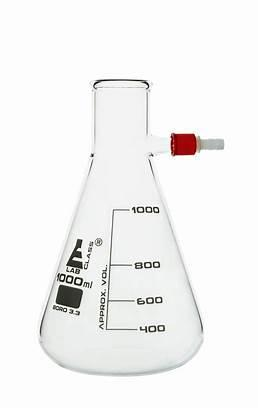Titrarion: (39, 47, 212, 377)
